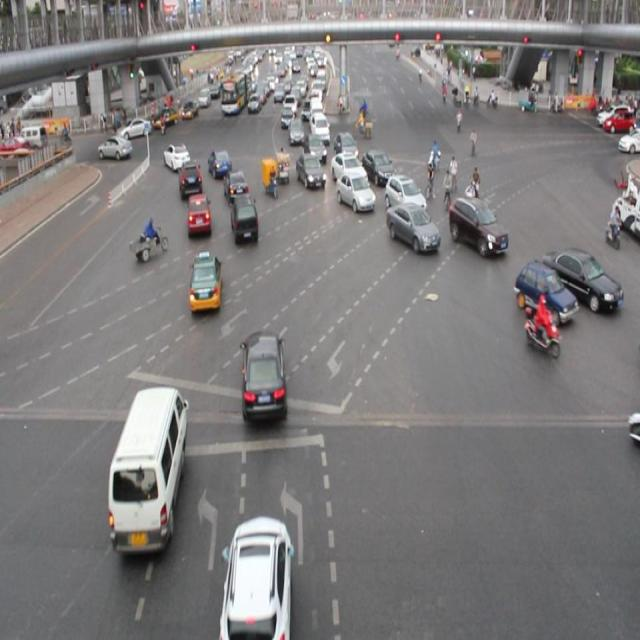car: (219, 515, 293, 640), (540, 248, 621, 309), (240, 330, 288, 424), (511, 260, 576, 324), (449, 196, 506, 253), (385, 201, 438, 253), (188, 250, 221, 314), (334, 171, 373, 213), (385, 173, 425, 212), (330, 150, 367, 188), (229, 196, 258, 244), (359, 148, 395, 186), (295, 153, 326, 188), (223, 168, 248, 208), (187, 191, 209, 236), (162, 142, 190, 174), (177, 163, 202, 198), (332, 132, 359, 164), (99, 137, 132, 162), (207, 148, 231, 180), (302, 131, 326, 163)
truck: (109, 384, 190, 552)
